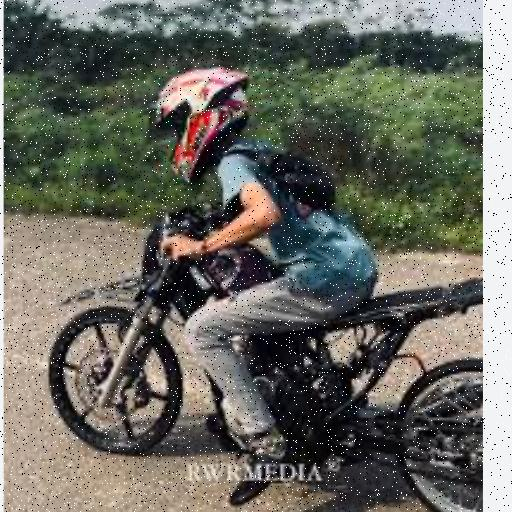Helmet: (149, 67, 248, 181)
Motor: (232, 278, 482, 511), (49, 245, 278, 455)
